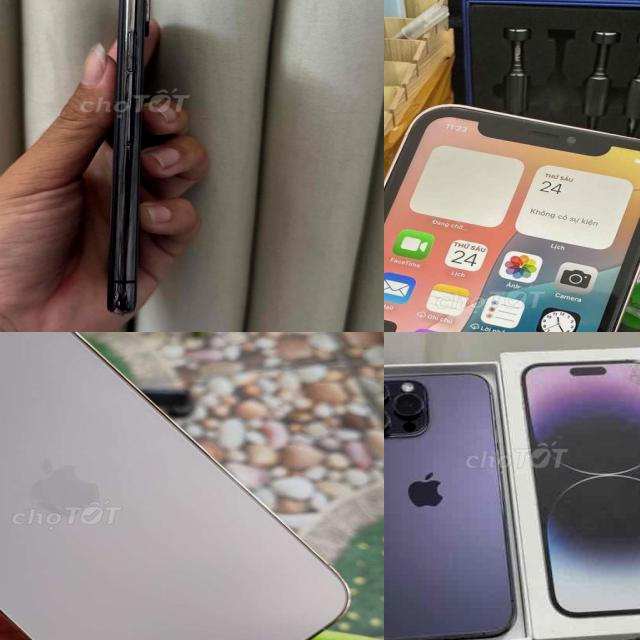gen_12_13: (0, 332, 354, 640)
gen_14: (384, 367, 519, 640)
gen_x_xs: (384, 106, 640, 332), (108, 0, 150, 314)
